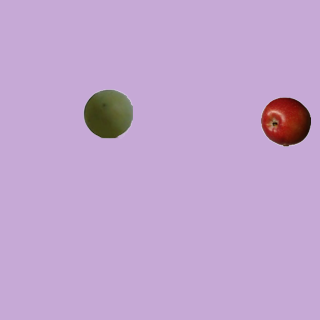Apple Braeburn: (260, 96, 310, 146)
Grape White 4: (82, 88, 132, 138)
